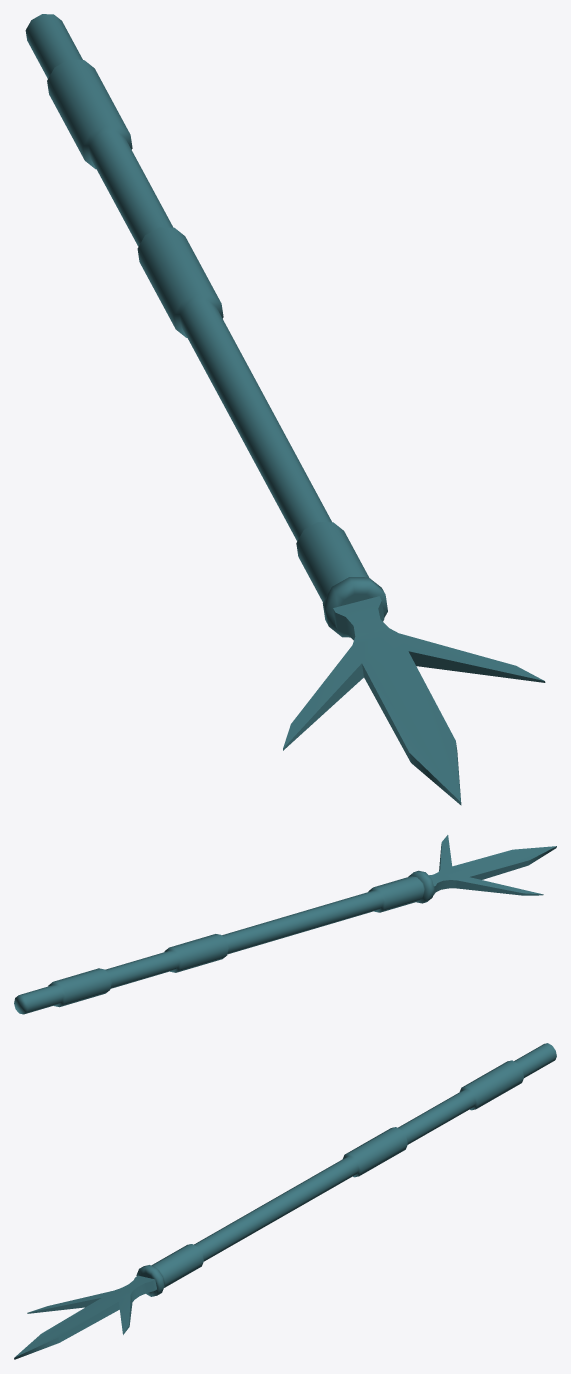
File: spear.fbx
The picture shows the model from 3 angles, top to bottom: view 1: azimuth 30°, elevation 25°; view 2: azimuth 150°, elevation 25°; view 3: azimuth 330°, elevation 25°; orthographic projection. The views are drawn at different scales.
Parts seen in each view (by area): view 1: pasted__Spear; view 2: pasted__Spear; view 3: pasted__Spear.
Boxes of the visible parts, left/top/right/bottom form: pasted__Spear: left=25, top=14, right=545, bottom=805; pasted__Spear: left=14, top=835, right=556, bottom=1014; pasted__Spear: left=14, top=1043, right=556, bottom=1359.
Size of the model in its own units: 4.88 by 1.89 by 15.02.
